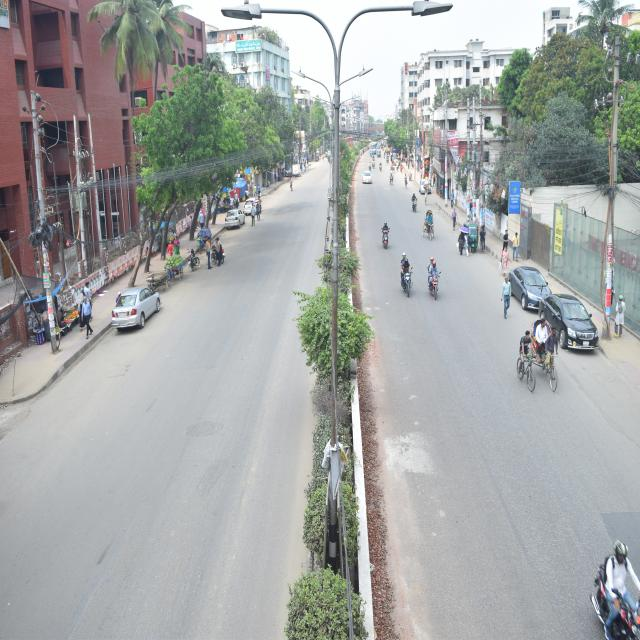car: (538, 292, 602, 358), (110, 286, 162, 333), (507, 262, 556, 308), (223, 207, 247, 231), (360, 166, 372, 183)
motorbike: (590, 539, 640, 640), (398, 256, 413, 303), (425, 259, 440, 304), (379, 222, 393, 255), (408, 190, 421, 220)
